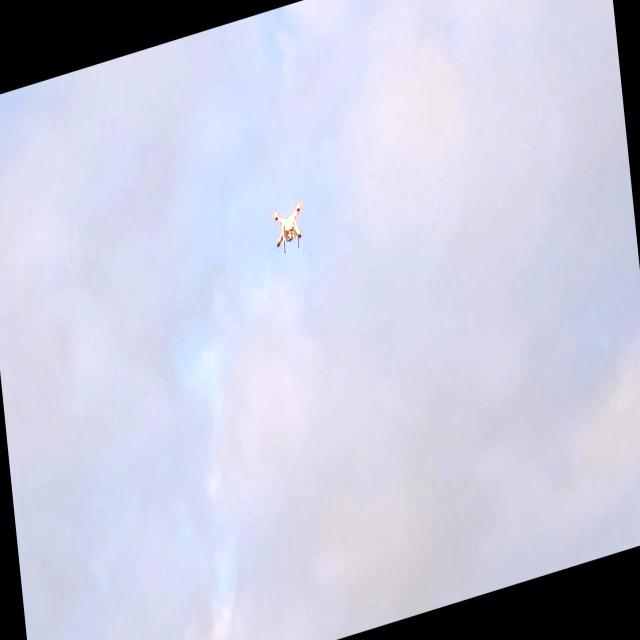drone: (265, 184, 312, 259)
